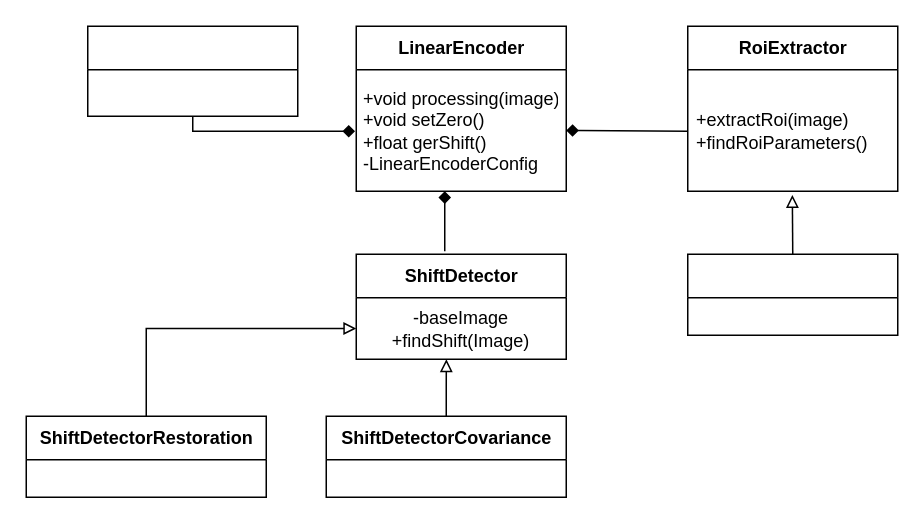
The diagram is 924 pixels wide and 524 high, and some of its shapes have lost their labels. Here are the shapes that lost their labels. From the top down, the centre of each, then its label:
At [192,70]: "LinearEncoderConfig".
At [792,294]: "RoiExtractorCanny".
